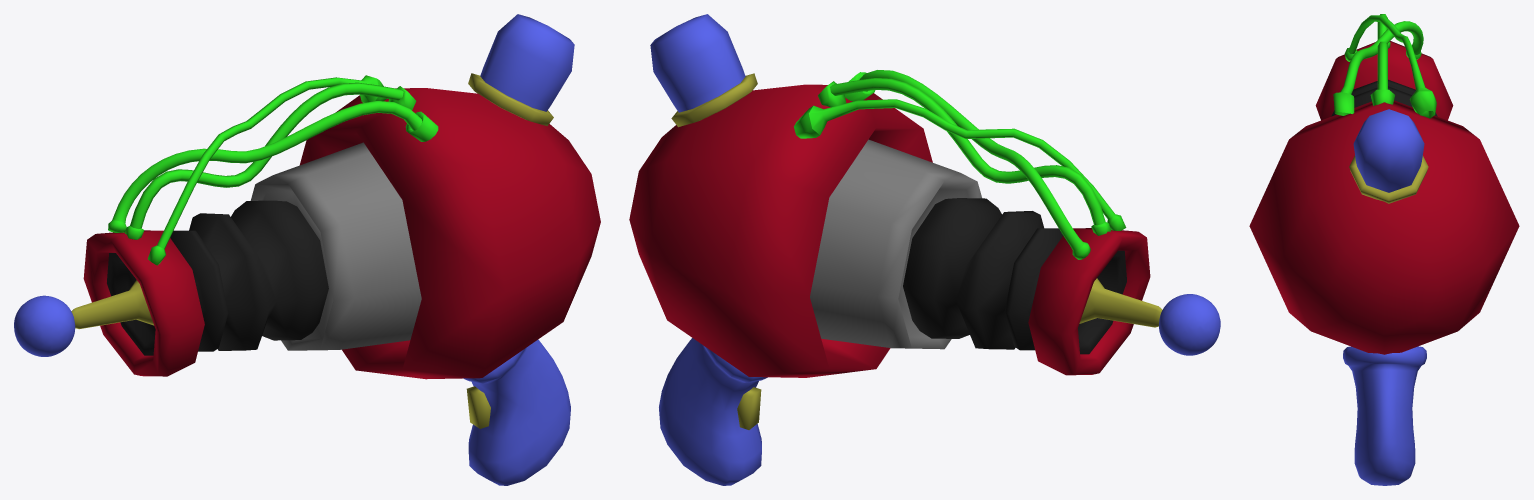
Rendered from raygun.fbx.
3 views of the same model, side by side, from view 1: azimuth 30°, elevation 25°; view 2: azimuth 150°, elevation 25°; view 3: azimuth 270°, elevation 25° (orthographic). The views are drawn at different scales.
Parts seen in each view (by area): view 1: Trigger; view 2: Trigger; view 3: Trigger.
Boxes of the visible parts, x1,y1,x2,y2 form: Trigger: (14,14,600,485); Trigger: (629,14,1220,485); Trigger: (1249,14,1519,485).
Bounding box in the file's own units: 714 × 548 × 354.
